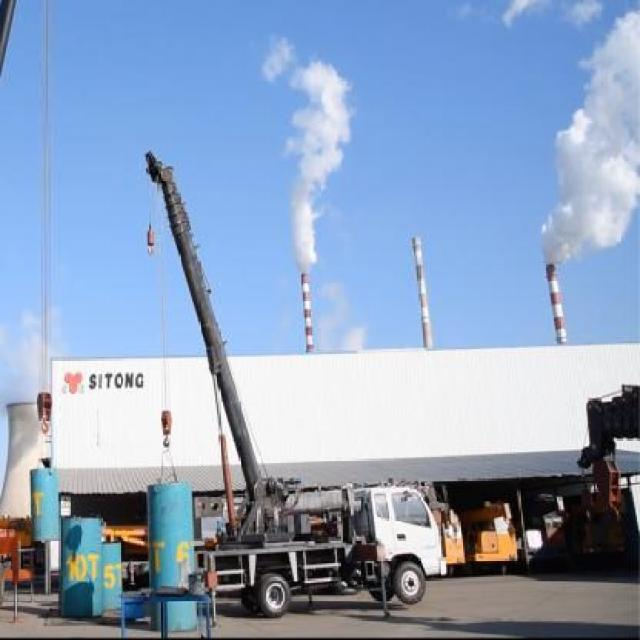Mobile Crane: (144, 143, 450, 617)
